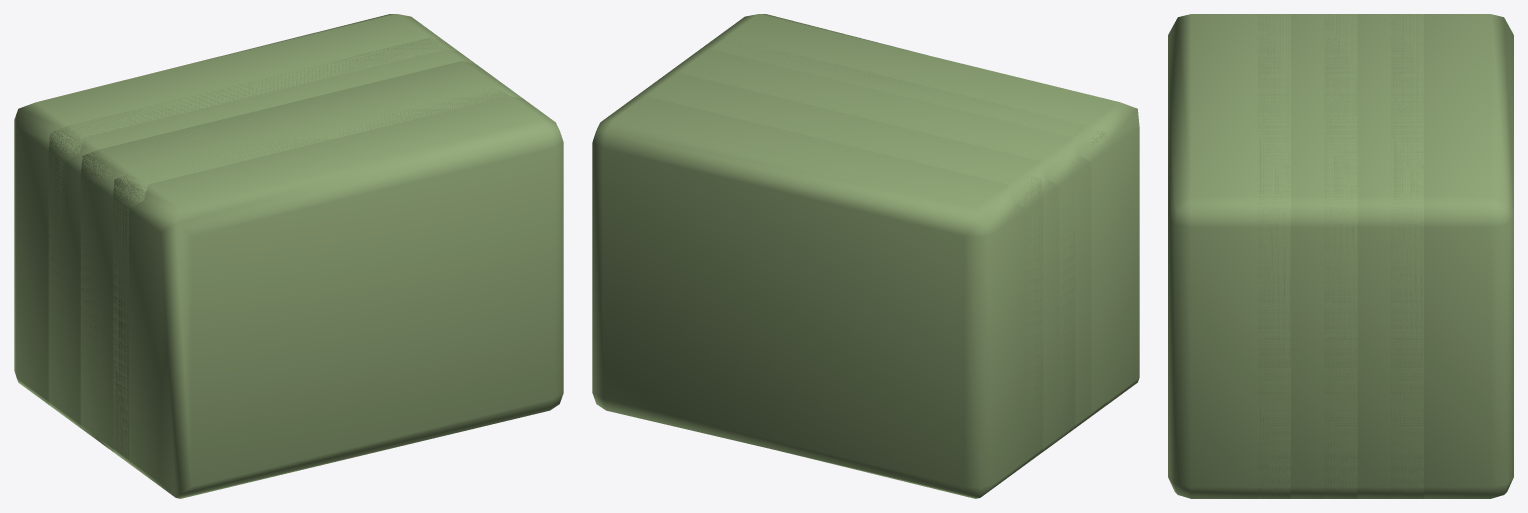
File: equipment_basket_stack.glb
3 renders of one model, left to right at view 1: azimuth 30°, elevation 25°; view 2: azimuth 150°, elevation 25°; view 3: azimuth 270°, elevation 25°, orthographic. The views are drawn at different scales.
Parts seen in each view (by area): view 1: Basket, Basket.001, Basket.003, Basket.002; view 2: Basket.003, Basket, Basket.001, Basket.002; view 3: Basket, Basket.003, Basket.001, Basket.002.
Boxes of the visible parts, box(x1,y1,x2,y2) form: Basket: box(113, 87, 563, 498); Basket.001: box(80, 61, 522, 459); Basket.003: box(14, 14, 458, 405); Basket.002: box(48, 37, 477, 449); Basket.003: box(592, 96, 1043, 498); Basket: box(698, 14, 1139, 417); Basket.001: box(666, 37, 1106, 449); Basket.002: box(633, 62, 1075, 452); Basket: box(1168, 14, 1290, 498); Basket.003: box(1391, 14, 1513, 498); Basket.001: box(1258, 14, 1357, 498); Basket.002: box(1324, 14, 1423, 498).
Bounding box in the file's own units: 0.72 × 0.5 × 0.52.
